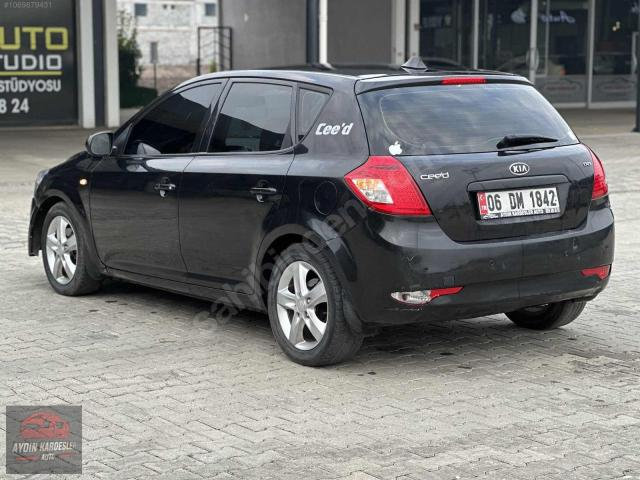plaka: (478, 187, 560, 219)
